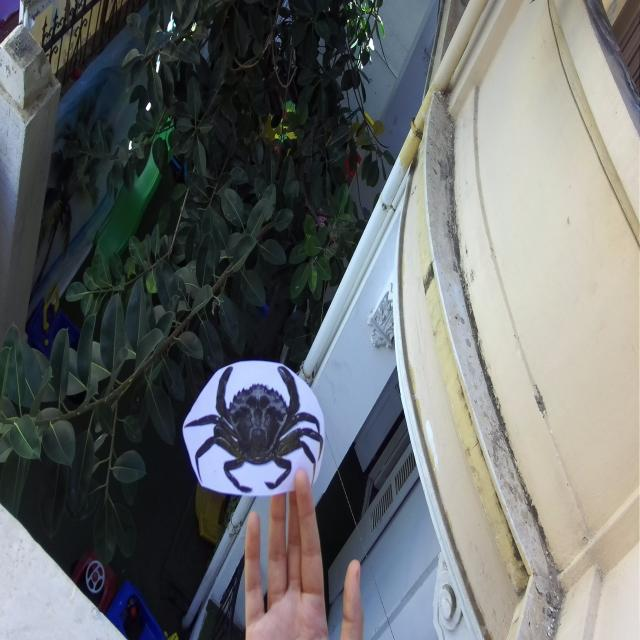European_Green_Crab: (182, 357, 325, 501)
